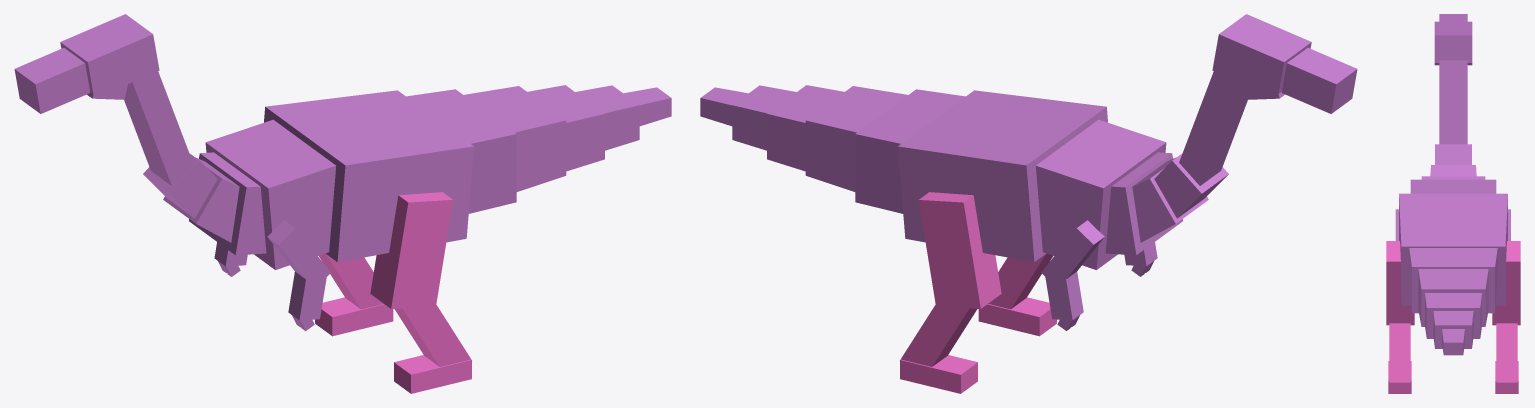
File: Invento.fbx
3 views of the same model, side by side, from view 1: azimuth 30°, elevation 25°; view 2: azimuth 150°, elevation 25°; view 3: azimuth 270°, elevation 25° (orthographic). The views are drawn at different scales.
Visible parts, largest first — view 1: CUERPO, PATAS, Object008; view 2: CUERPO, Object008, PATAS; view 3: CUERPO, PATAS, Object008.
Boxes of the visible parts, x1,y1,x2,y2 form: CUERPO: (14, 14, 671, 331); PATAS: (370, 192, 471, 393); Object008: (315, 253, 393, 336); CUERPO: (700, 14, 1357, 330); Object008: (900, 192, 1001, 393); PATAS: (978, 253, 1056, 336); CUERPO: (1395, 14, 1510, 355); PATAS: (1386, 241, 1414, 393); Object008: (1492, 241, 1520, 393).
Bounding box in the file's own units: 157 × 91.34 × 41.98.
